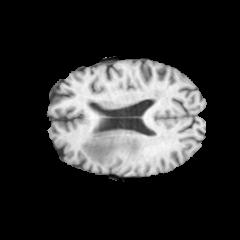glioma: (82, 131, 143, 165)
